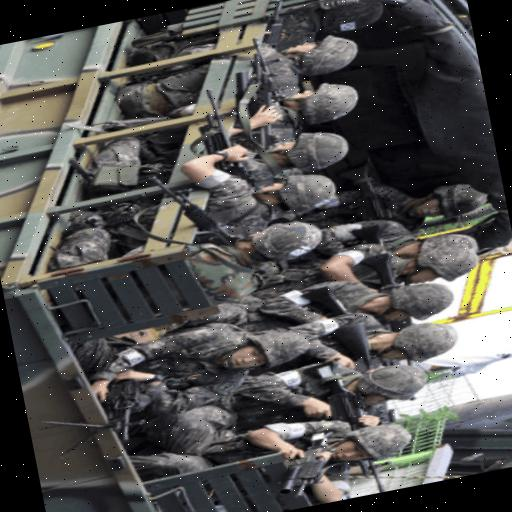korea army: (38, 203, 344, 336), (31, 152, 350, 270), (183, 282, 459, 413), (52, 64, 368, 176), (157, 334, 432, 462), (125, 394, 421, 512), (182, 254, 456, 372), (76, 303, 316, 434), (47, 130, 354, 212), (250, 206, 482, 314), (104, 29, 358, 117), (292, 158, 492, 255)
